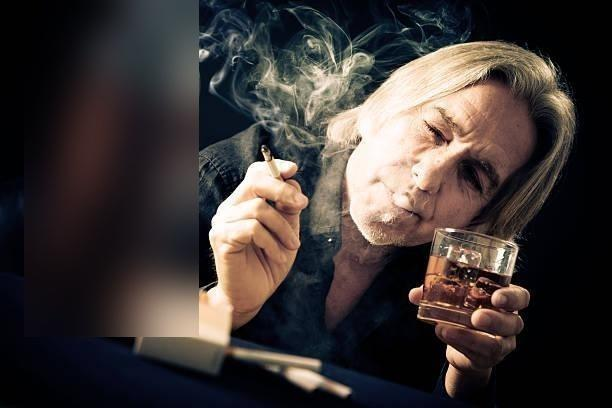glass-normal: (416, 226, 520, 341)
